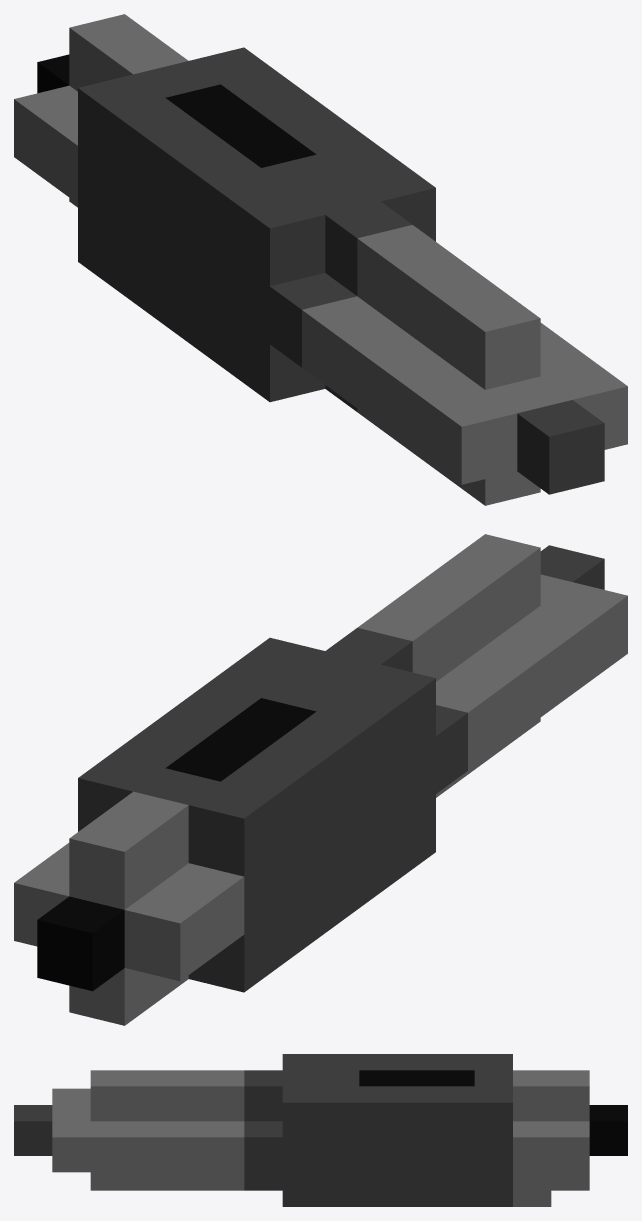
The model's file is pen2.obj.
3 views of the same model, one above another, from view 1: azimuth 30°, elevation 25°; view 2: azimuth 150°, elevation 25°; view 3: azimuth 270°, elevation 25° (orthographic). The views are drawn at different scales.
Size of the model in its own units: 3 by 3 by 16.
1 material, 1 textured.
